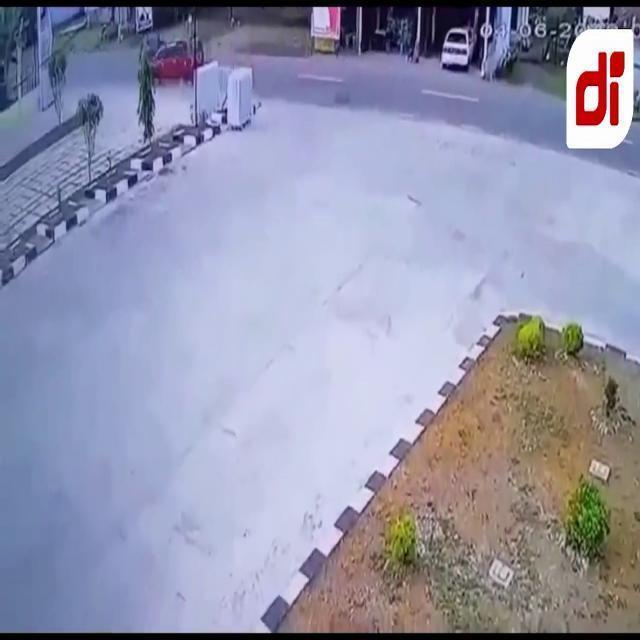accident: (140, 30, 204, 84)
